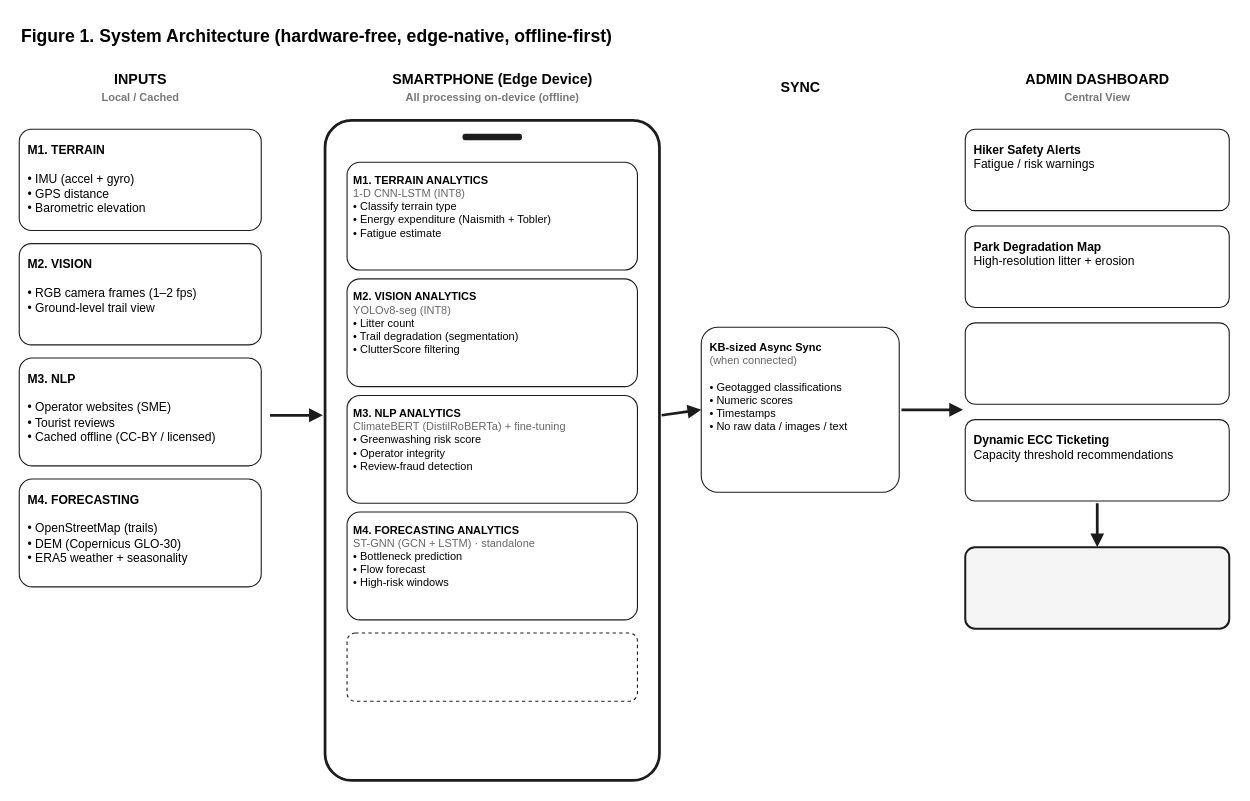
Some shapes in this 1250 by 801 pixel diagram are drawn without their labels. Each missing label, with the box of its shape:
Operator Trust & Integrity Greenwashing / fraud scores: (964, 322, 1229, 404)
Park Administration Informed decisions, replace static quotas: (964, 546, 1230, 629)
🔒 Privacy-by-Design All processing local. No raw data leaves the device.: (346, 632, 637, 701)
